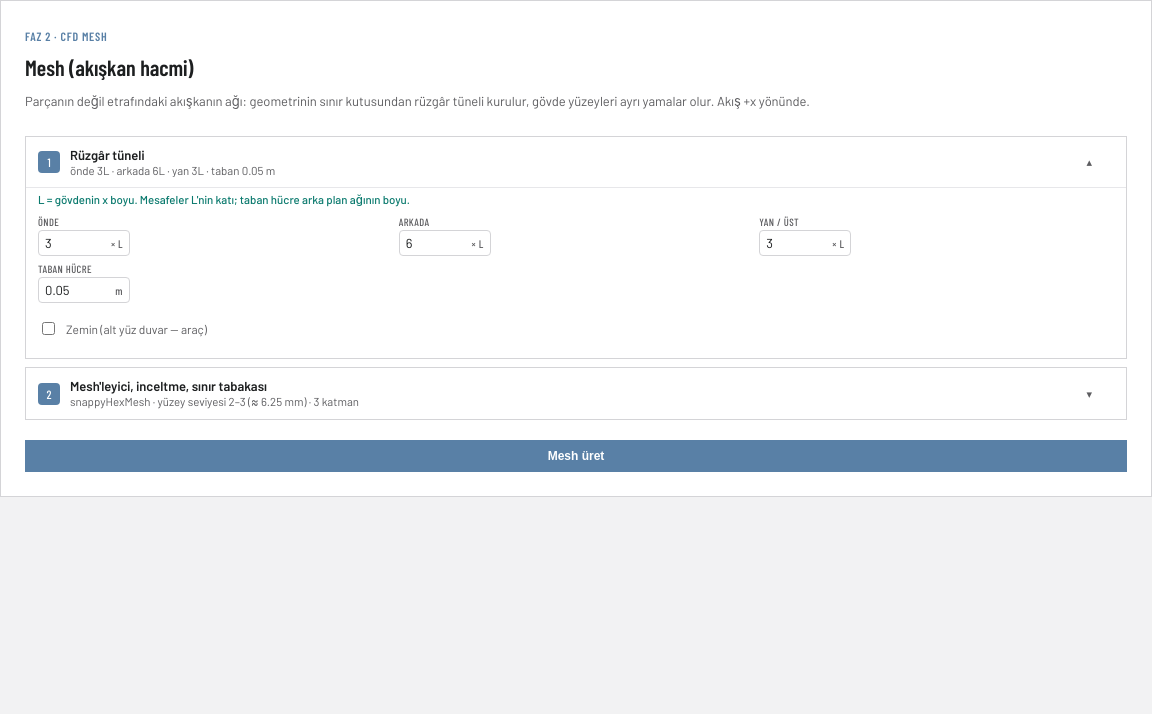
it: CfdMeshPanel (AKIŞ · 2 · Mesh) › tünel + mesh'leyici ayarlarını gönderir, sonucu checkMesh tablosu ve yamalarla gösterir
Step 1. Replace the text in the field labelled "Taban hücre" with "0,15" → (74, 290), box [39,278,109,302]
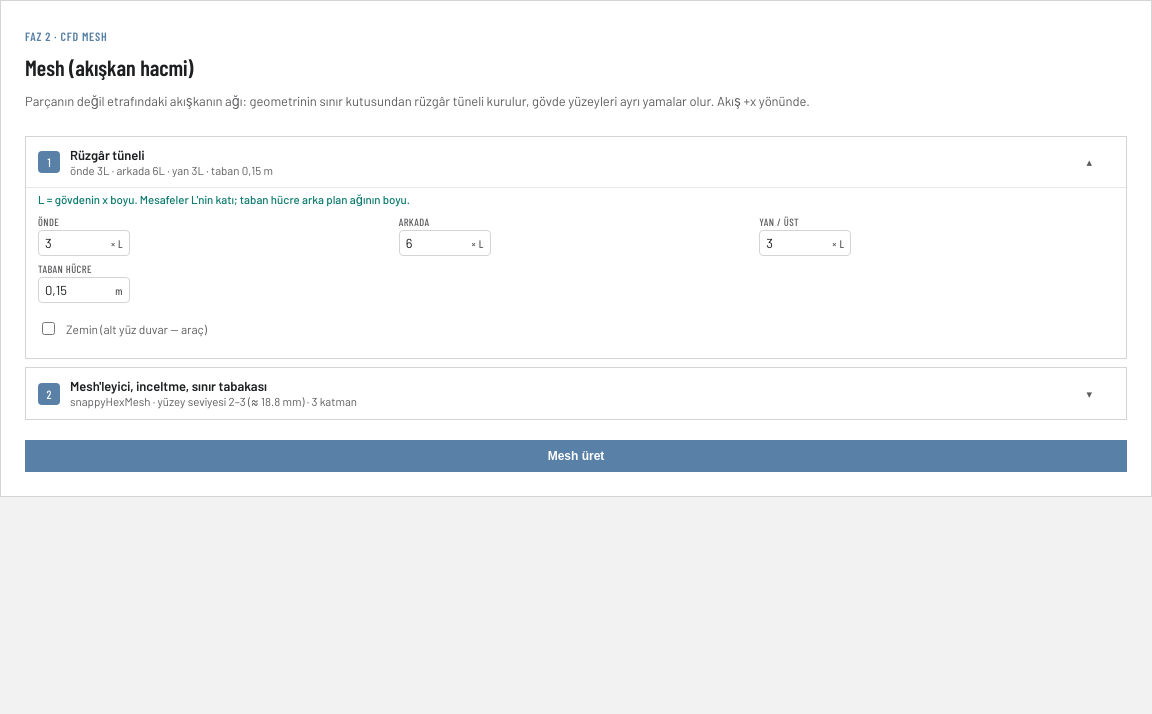
Step 2. Click the button "Mesh'leyici, inceltme" → (169, 386), box [26,368,1126,419]
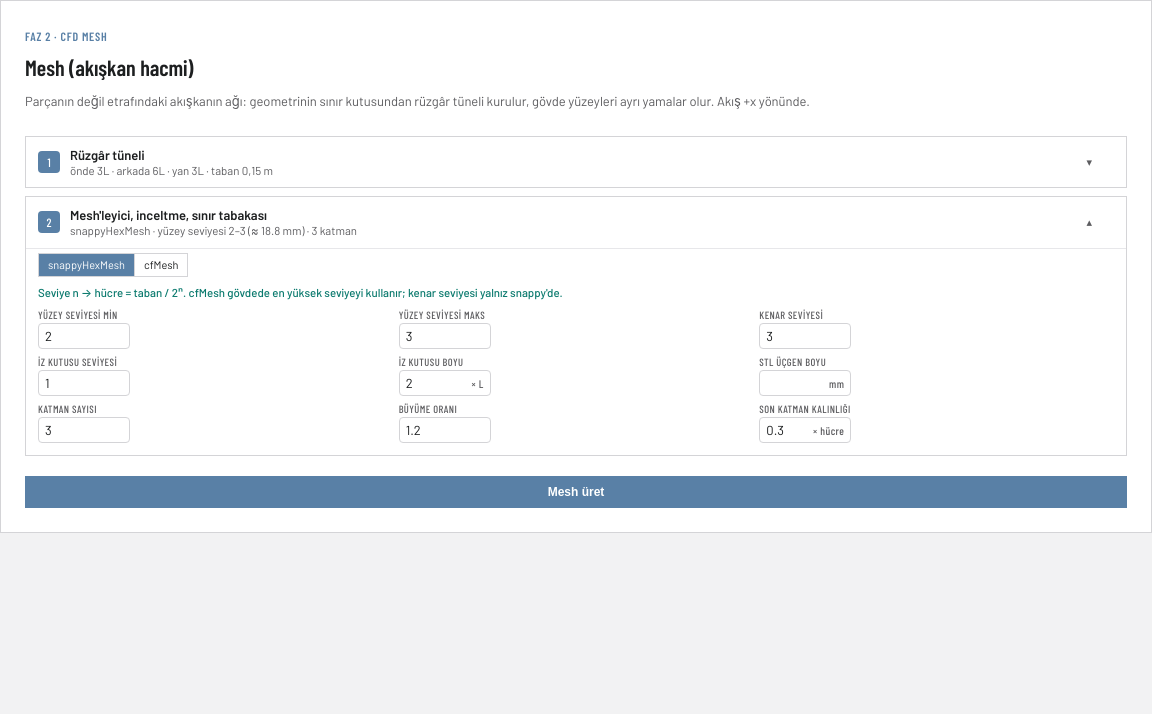
Step 3. Click the button "cfMesh" → (161, 265), box [134,254,188,276]
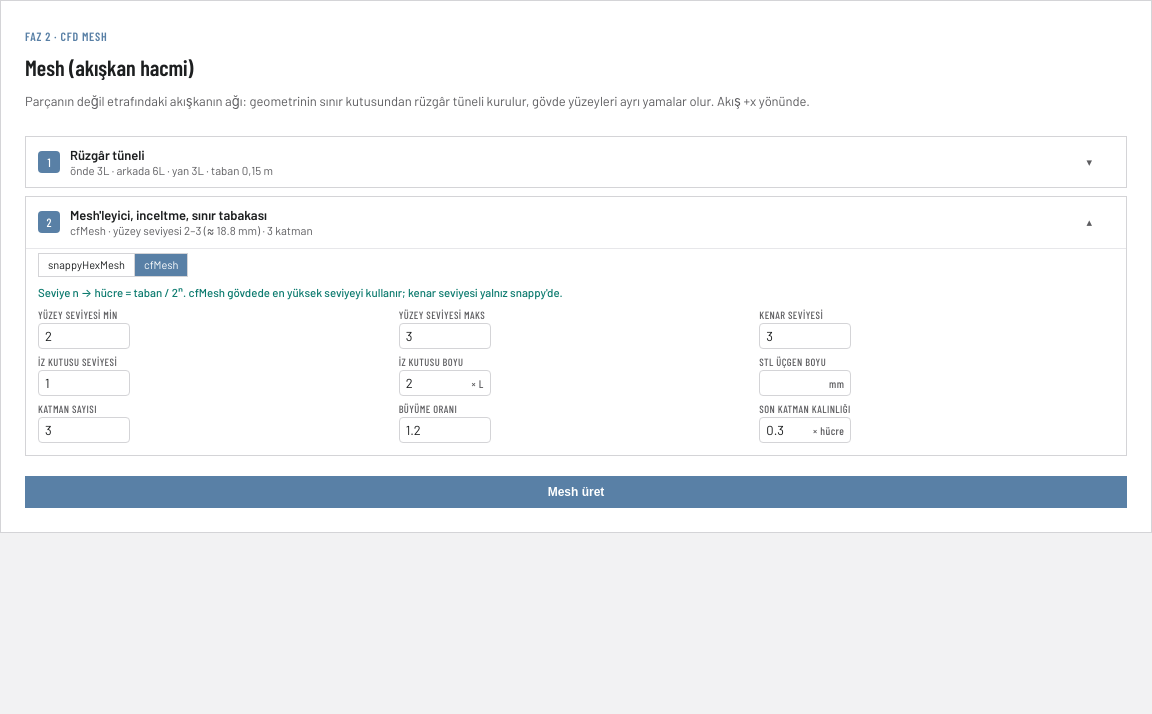
expect the field labelled "Kenar seviyesi" is disabled: met, box [760,324,850,348]
Step 4. Click the button "Mesh üret" → (576, 492), box [25,476,1127,508]
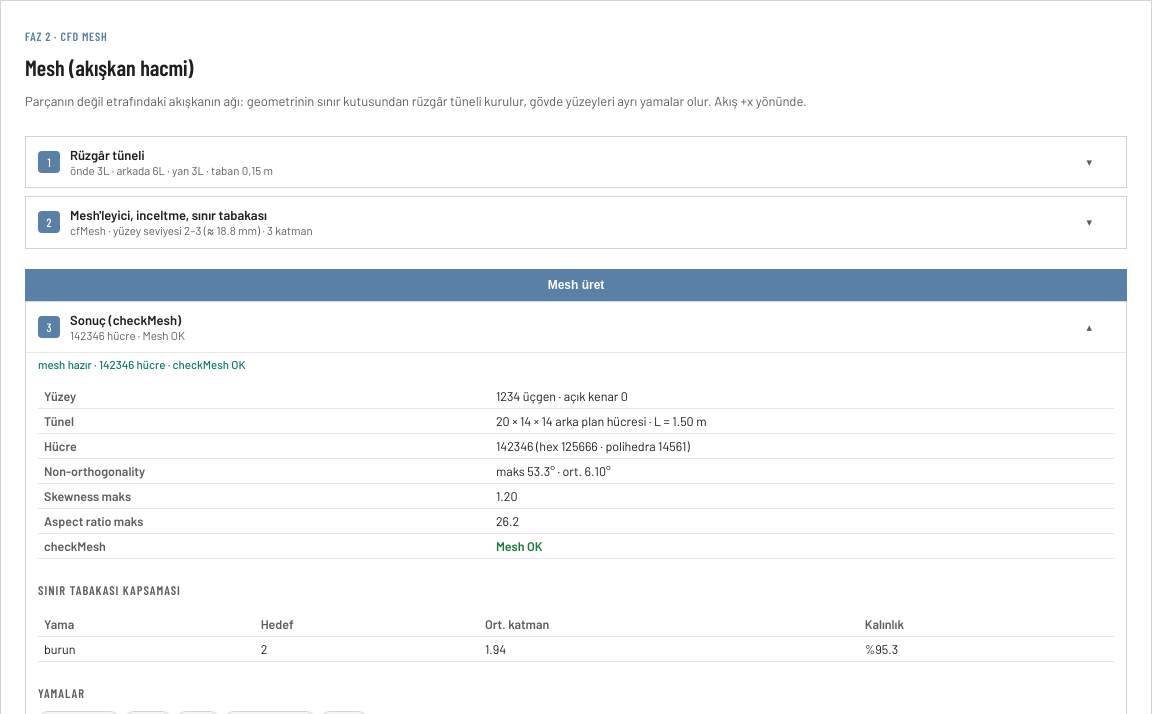
expect the text "Mesh OK" is shown: met, box [490,534,1114,559]
expect the text "%95.3" is shown: met, box [859,637,1114,662]
